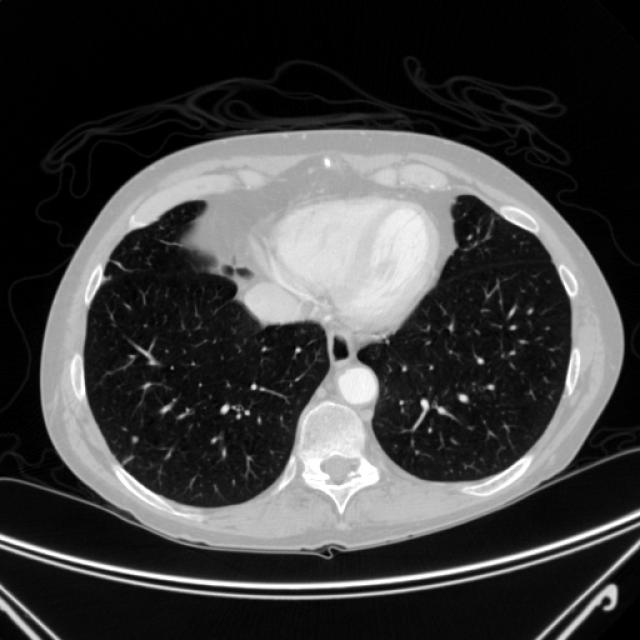nodule: (124, 429, 144, 449)
